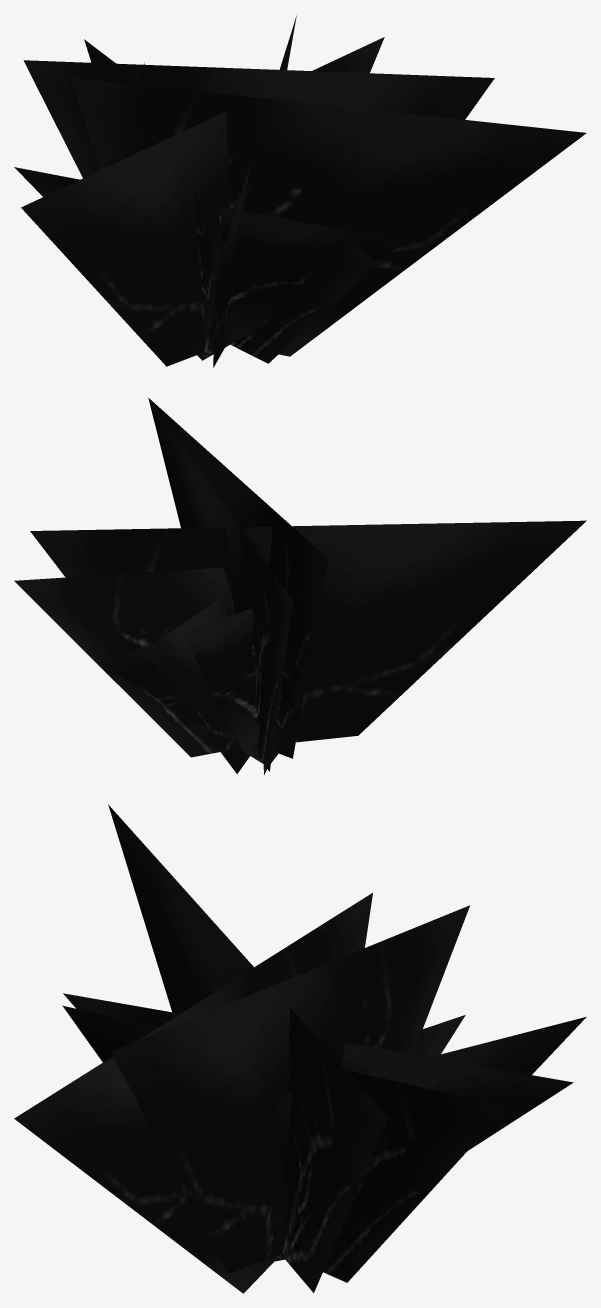
File: fdec902.glb
3 renders of one model, top to bottom at view 1: azimuth 30°, elevation 25°; view 2: azimuth 150°, elevation 25°; view 3: azimuth 270°, elevation 25°, orthographic. The views are drawn at different scales.
Visible parts, largest first — view 1: fdec902; view 2: fdec902; view 3: fdec902.
Boxes of the visible parts, x1=… form: fdec902: x1=14, y1=16, x2=586, y2=367; fdec902: x1=14, y1=398, x2=586, y2=774; fdec902: x1=14, y1=804, x2=586, y2=1293.
Bounding box in the file's own units: 1.7 × 0.9118 × 1.42.
1 material, 1 textured.
